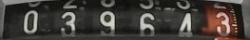digits: (95, 0, 120, 37), (136, 0, 159, 37), (173, 0, 195, 37), (211, 3, 234, 38), (59, 0, 79, 37), (23, 10, 38, 34)
